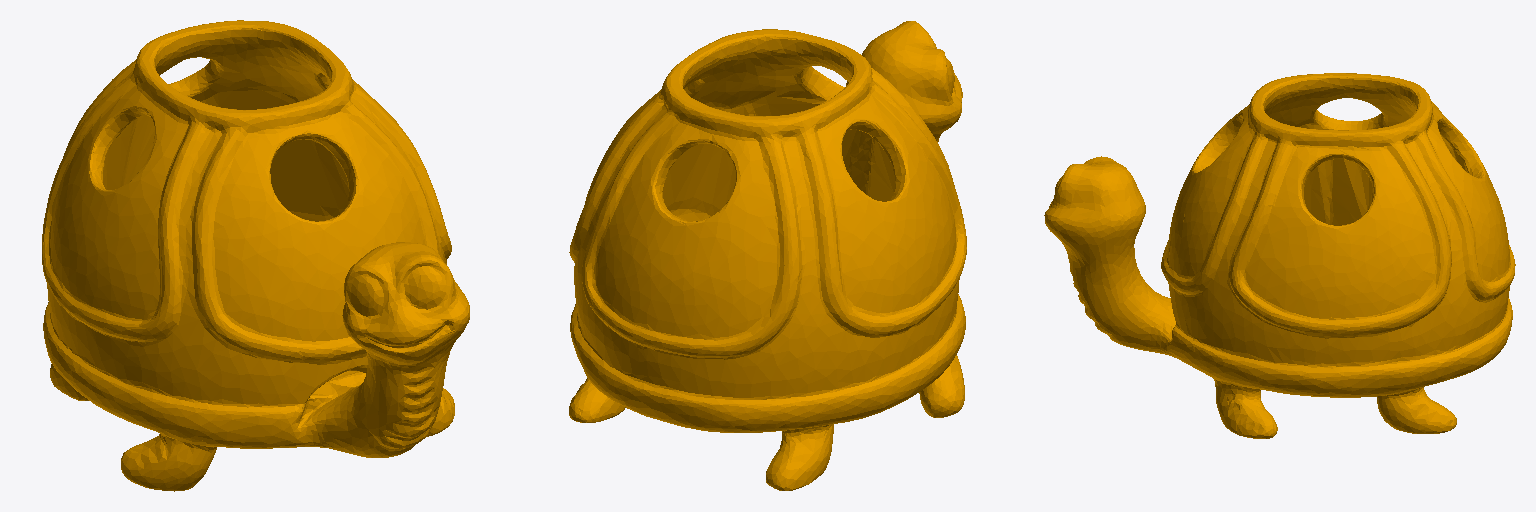
robot.urdf — 2wouwuvr:
<?xml version='1.0'?>

<robot name="2wouwuvr">
    <static>false</static>
    <link name="link">
        <inertial>
            <mass value="0.1405760991140734"/>
            <inertia ixx="0.00017946463760735705" ixy="4.895150683533262e-07" ixz="-5.605799775255974e-07"
                     iyy="0.00011791533148360861" iyz="6.6965533756547365e-06" izz="0.00019838748064273856"/>
        </inertial>
        <collision name="collision">
            <geometry>
                <mesh filename="package://miscnet/train/2wouwuvr/collision_model_vhacd.obj"/>
            </geometry>
        </collision>
        <visual name="visual">
            <geometry>
                <mesh filename="package://miscnet/train/2wouwuvr/visual_model.obj"/>
            </geometry>
        </visual>
    </link>
</robot>

--- Render facts (derived) ---
The picture shows the robot from 3 angles, left to right: view 1: azimuth 30°, elevation 25°; view 2: azimuth 150°, elevation 25°; view 3: azimuth 270°, elevation 25°; orthographic projection.
Robot: 2wouwuvr — 1 links, 0 joints (none); root link link; default pose: every joint at zero.
Links seen in each view (by area): view 1: link; view 2: link; view 3: link.
Boxes of the visible links, bbox=[...] form: link: bbox=[42, 20, 469, 491]; link: bbox=[569, 21, 966, 490]; link: bbox=[1044, 73, 1515, 438].
Bounding box of the posed robot: 0.0846 × 0.1238 × 0.0815 m (x, y, z).
Meshes: 1 distinct files referenced, 1 mesh visuals loaded (1 OBJ).
